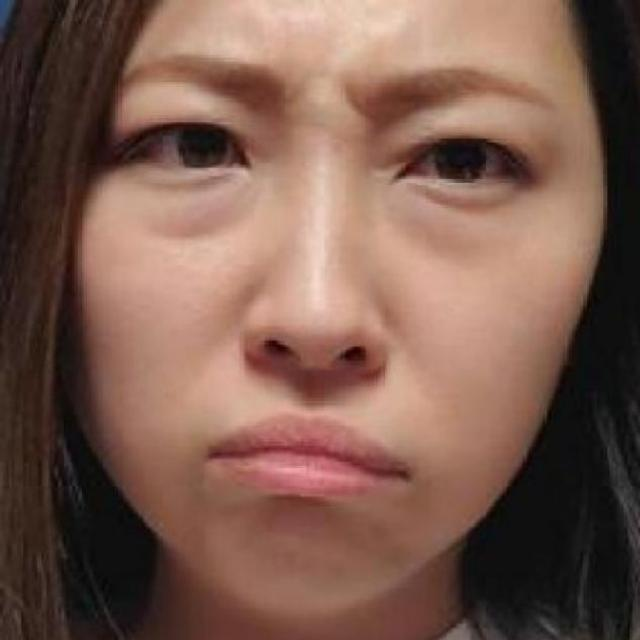Sad: (69, 18, 640, 560)
